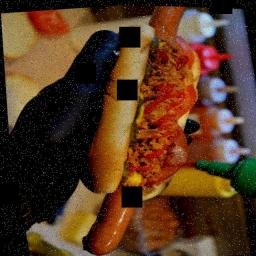hotdog: (70, 8, 221, 210)
